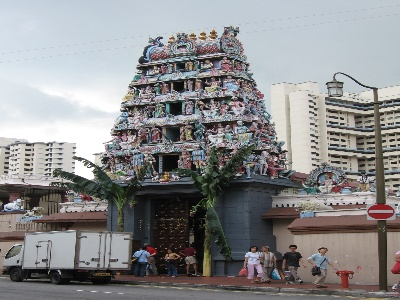gopura: (103, 22, 286, 178)
